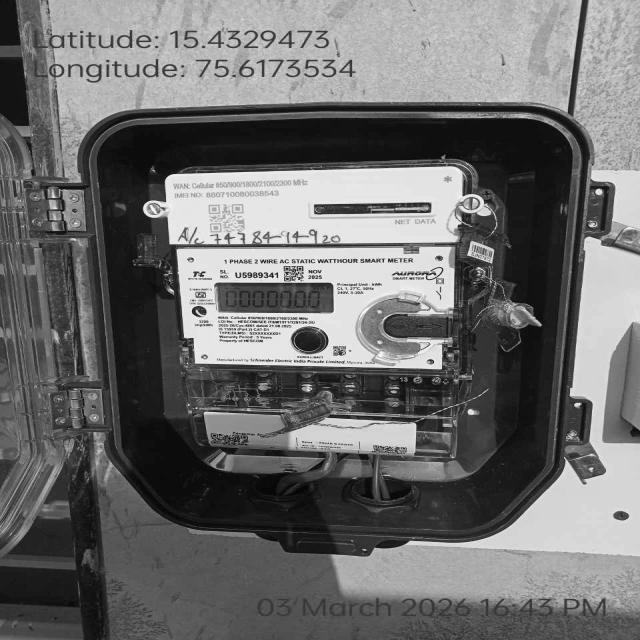meter: (164, 174, 464, 370)
